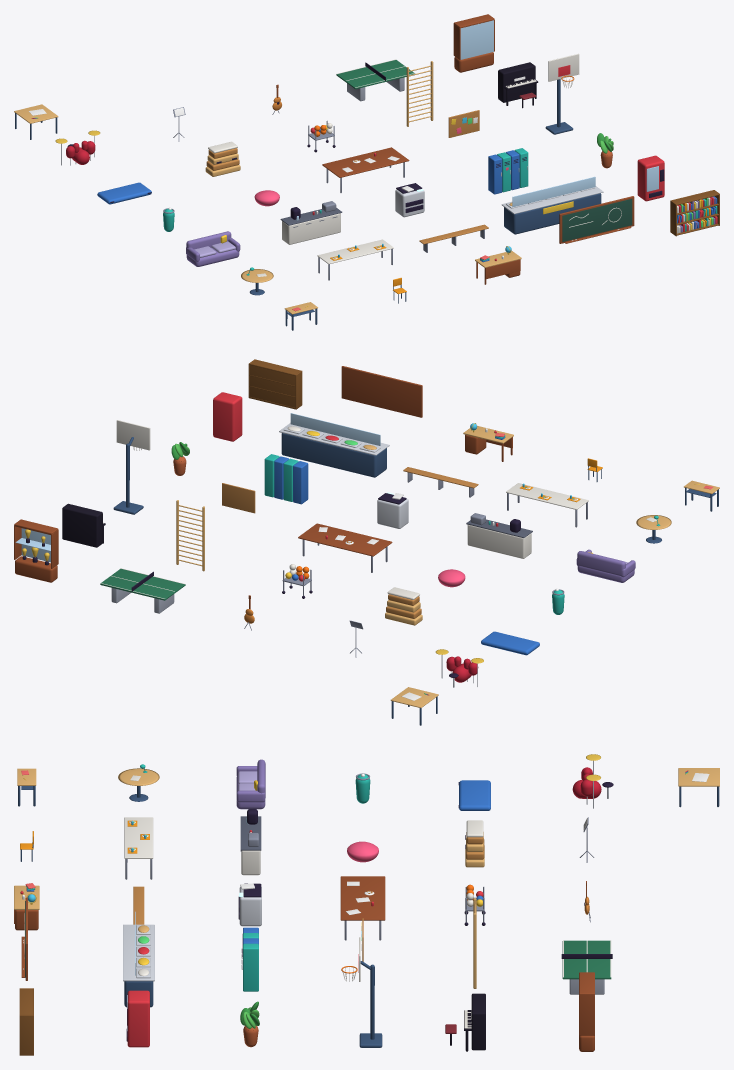
Rendered from moebel.glb.
3 views of the same model, one above another, from view 1: azimuth 30°, elevation 25°; view 2: azimuth 150°, elevation 25°; view 3: azimuth 270°, elevation 25° (orthographic). The views are drawn at different scales.
Parts seen in each view (by area): view 1: Theke, Tafel, Pokalvitrine, Buecherregal, Kuechenzeile, Tischtennisplatte, Spinde, Konferenztisch, Sofa, Klavier, Basketballkorb, Getraenkeautomat (+10 smaller); view 2: Theke, Tafel, Pokalvitrine, Buecherregal, Kuechenzeile, Tischtennisplatte, Spinde, Konferenztisch, Klavier, Getraenkeautomat, Basketballkorb, Sofa (+10 smaller); view 3: Theke, Tischtennisplatte, Konferenztisch, Mensatisch, Sofa, Kuechenzeile, Getraenkeautomat, Pokalvitrine, Klavier, Spinde, Lehrerpult, Buecherregal (+11 smaller).
Boxes of the visible parts, box(x1,y1,x2,y2) form: Theke: box(501, 176, 603, 234); Tafel: box(559, 196, 634, 243); Pokalvitrine: box(453, 14, 494, 72); Buecherregal: box(670, 190, 719, 236); Kuechenzeile: box(280, 201, 342, 244); Tischtennisplatte: box(336, 59, 414, 101); Spinde: box(488, 148, 528, 194); Konferenztisch: box(322, 147, 409, 192); Sofa: box(186, 231, 240, 266); Klavier: box(498, 62, 538, 108); Basketballkorb: box(545, 53, 579, 134); Getraenkeautomat: box(637, 155, 664, 201); Theke: box(279, 413, 389, 477); Tafel: box(341, 366, 422, 417); Pokalvitrine: box(14, 519, 58, 582); Buecherregal: box(248, 359, 302, 409); Kuechenzeile: box(466, 513, 532, 558); Tischtennisplatte: box(100, 568, 185, 613); Spinde: box(264, 454, 308, 504); Konferenztisch: box(298, 523, 392, 572); Klavier: box(62, 503, 105, 547); Getraenkeautomat: box(213, 392, 242, 441); Basketballkorb: box(113, 420, 150, 514); Sofa: box(576, 549, 635, 582); Theke: box(123, 911, 154, 1007); Tischtennisplatte: box(561, 940, 612, 994); Konferenztisch: box(340, 876, 385, 940); Mensatisch: box(124, 817, 153, 879); Sofa: box(236, 759, 265, 809); Kuechenzeile: box(240, 809, 261, 875); Getraenkeautomat: box(126, 990, 149, 1047); Pokalvitrine: box(579, 972, 594, 1051); Klavier: box(445, 993, 485, 1051); Spinde: box(241, 927, 258, 991); Lehrerpult: box(14, 883, 39, 930); Buecherregal: box(19, 988, 33, 1055).
Bounding box in the file's own units: 20.03 × 3.45 × 22.05.
